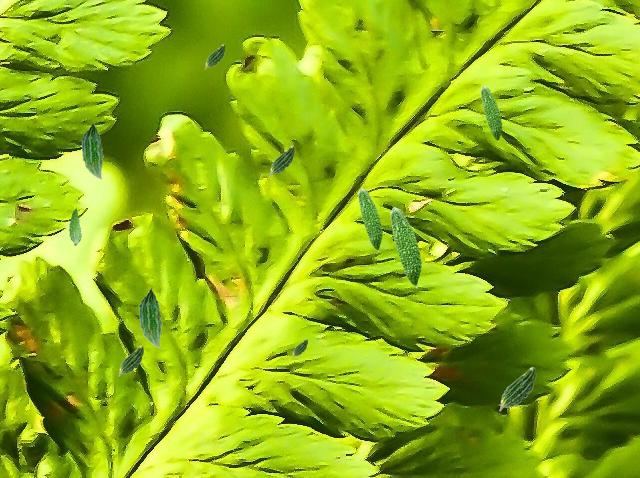ampalaya: (390, 206, 422, 289), (357, 187, 383, 253), (498, 366, 536, 411), (138, 287, 163, 348), (80, 121, 104, 179), (480, 85, 503, 143), (118, 345, 144, 376), (269, 145, 295, 176), (68, 207, 82, 246), (204, 44, 225, 69), (291, 338, 308, 358)
